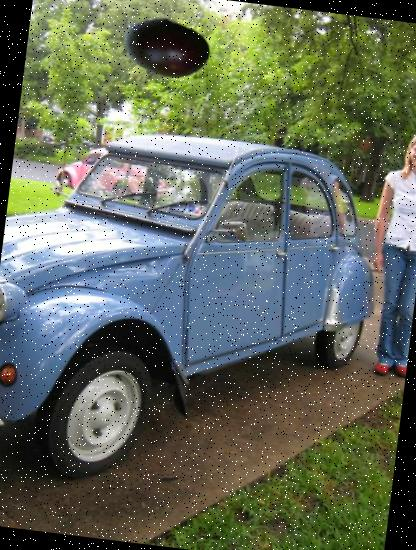Eggplant: (115, 0, 216, 98)
